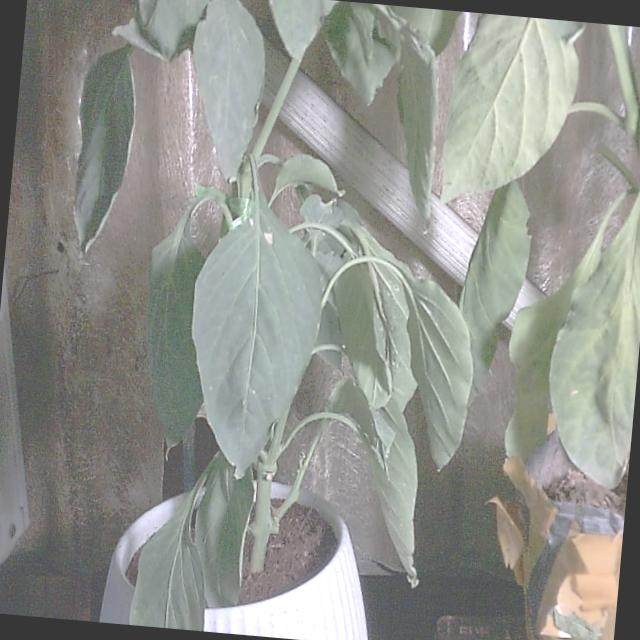Leaf: (193, 191, 322, 477), (505, 196, 622, 461), (550, 196, 639, 487), (442, 14, 578, 201), (460, 182, 530, 400), (146, 202, 203, 447), (193, 0, 265, 177), (74, 47, 134, 252), (409, 281, 473, 468), (195, 455, 254, 607), (325, 1, 399, 103), (269, 0, 336, 60)
